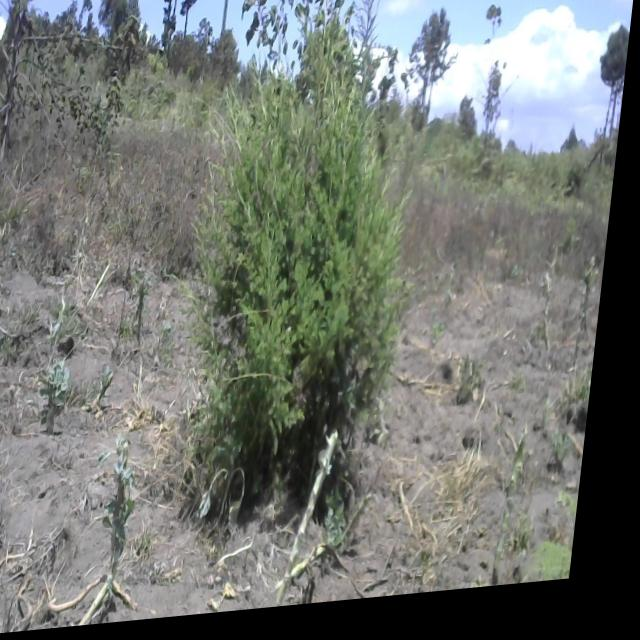cedrus: (192, 39, 453, 505)
